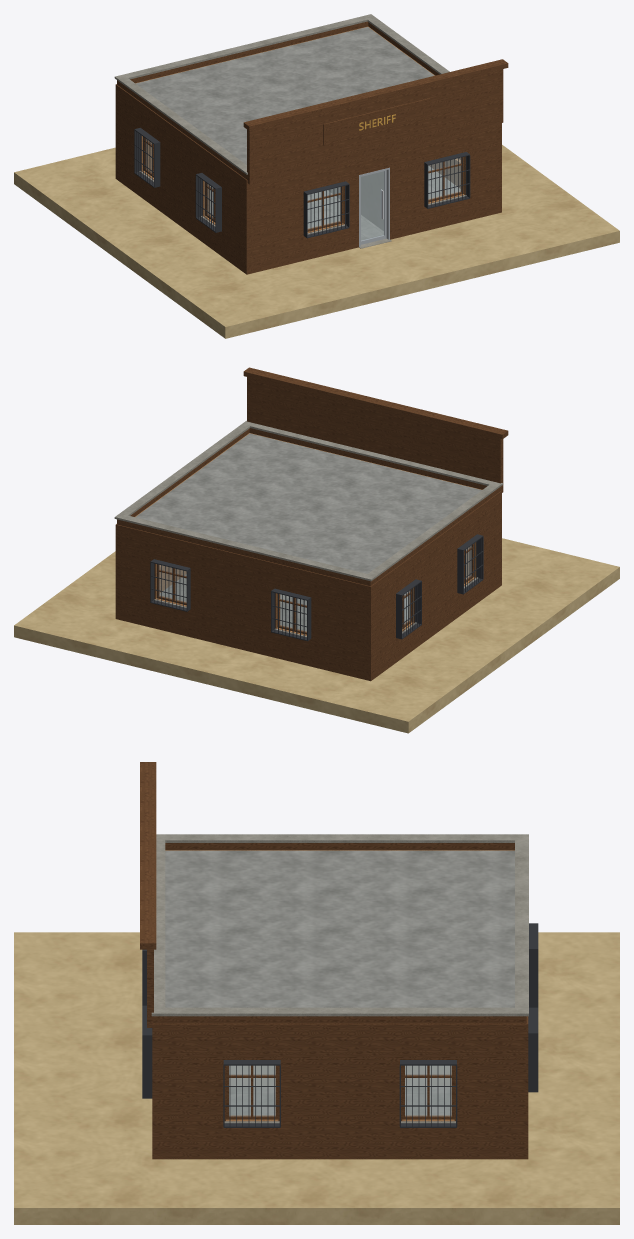
Rendered from b_sheriff_office.gltf.
3 renders of one model, top to bottom at view 1: azimuth 30°, elevation 25°; view 2: azimuth 150°, elevation 25°; view 3: azimuth 270°, elevation 25°, orthographic. The views are drawn at different scales.
Parts seen in each view (by area): view 1: S_sheriff_office, D_sheriff_office_F1_S2_Door0; view 2: S_sheriff_office; view 3: S_sheriff_office.
Part boxes in pixels (box(x1,y1,x2,y2)): S_sheriff_office: box(14, 14, 619, 338); D_sheriff_office_F1_S2_Door0: box(360, 170, 386, 244); S_sheriff_office: box(14, 367, 619, 733); S_sheriff_office: box(14, 762, 619, 1224).
Size of the model in its own units: 14 by 5.55 by 13.
15 materials, 8 textured.
